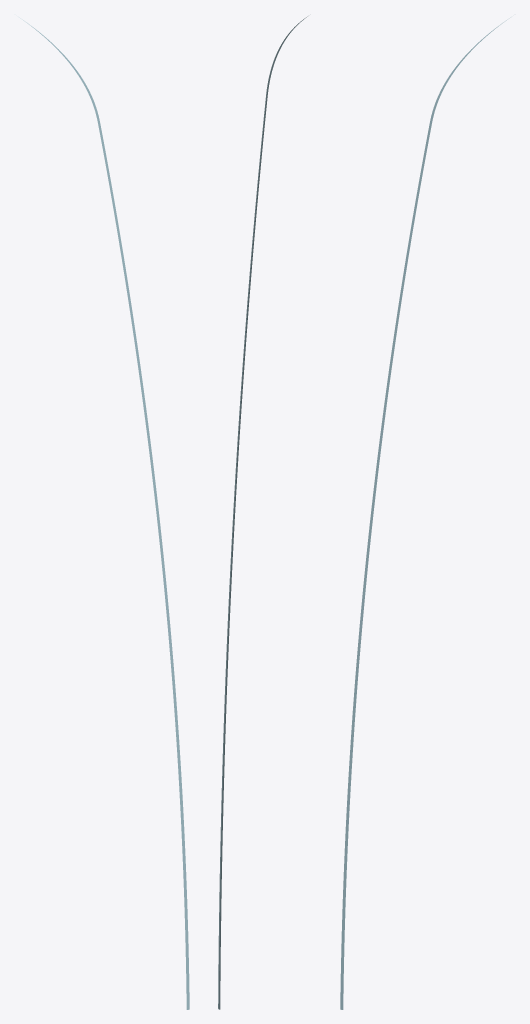
Rendered from EdgeGlow.obj.
3 views of the same model, side by side, from view 1: azimuth 90°, elevation 25°; view 2: azimuth 210°, elevation 25°; view 3: azimuth 270°, elevation 25° (orthographic). The views are drawn at different scales.
Parts seen in each view (by area): view 1: EdgeGlow; view 2: EdgeGlow; view 3: EdgeGlow.
Boxes of the visible parts, left/top/right/bottom form: EdgeGlow: left=19, top=17, right=189, bottom=1009; EdgeGlow: left=218, top=16, right=307, bottom=1009; EdgeGlow: left=340, top=17, right=510, bottom=1009.
Bounding box in the file's own units: 0.00496 × 4.57 × 0.7306.
